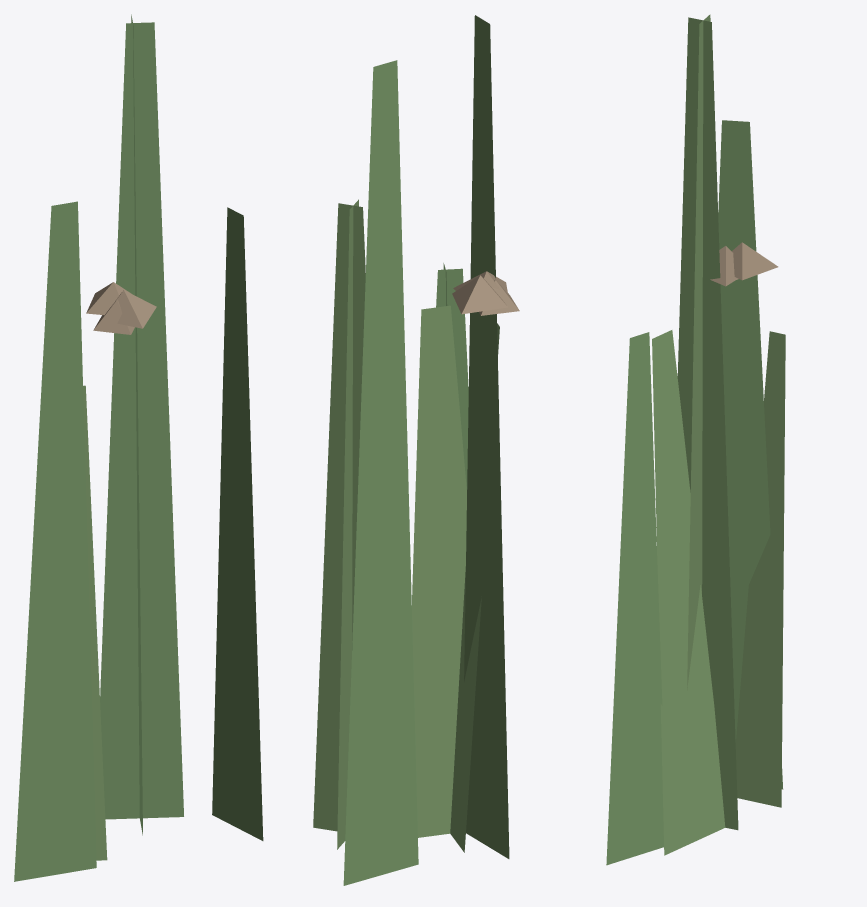
File: water.sub.reed_cattail__bloom.glb
3 renders of one model, left to right at view 1: azimuth 30°, elevation 25°; view 2: azimuth 150°, elevation 25°; view 3: azimuth 270°, elevation 25°, orthographic. The views are drawn at different scales.
Visible parts, largest first — view 1: water.sub.reed_cattail__bloom; view 2: water.sub.reed_cattail__bloom; view 3: water.sub.reed_cattail__bloom.
Boxes of the visible parts, x1,y1,x2,y2 form: water.sub.reed_cattail__bloom: [14, 14, 263, 881]; water.sub.reed_cattail__bloom: [313, 15, 519, 885]; water.sub.reed_cattail__bloom: [606, 14, 785, 865].
Bounding box in the file's own units: 0.7483 × 2.25 × 0.6248.
